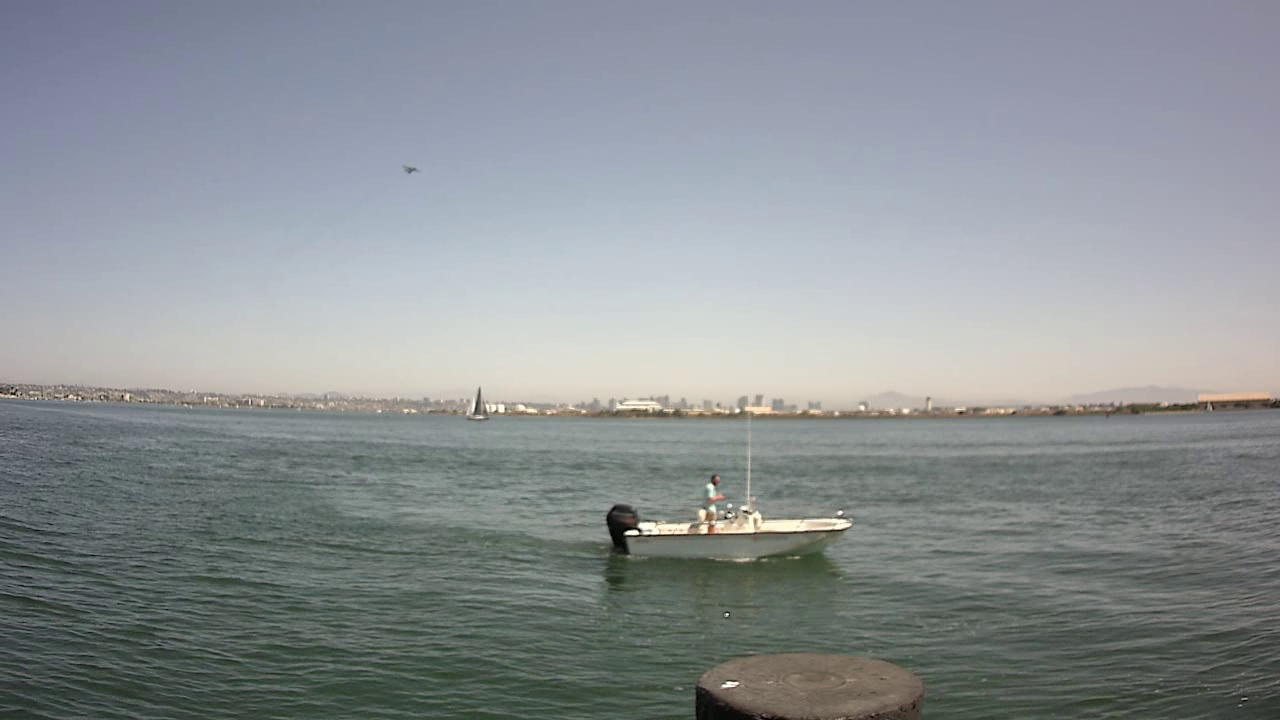target: (604, 471, 857, 568)
